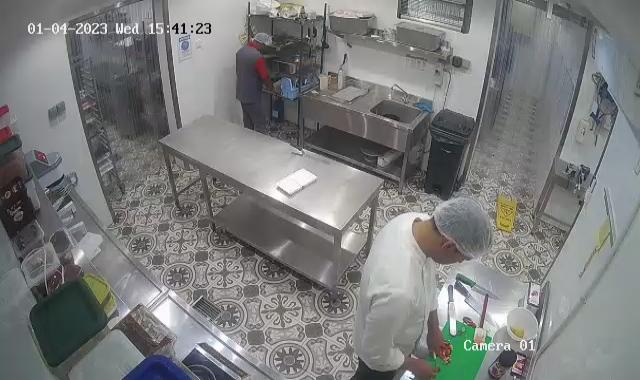hairnet: (428, 194, 497, 261), (252, 31, 272, 48)
